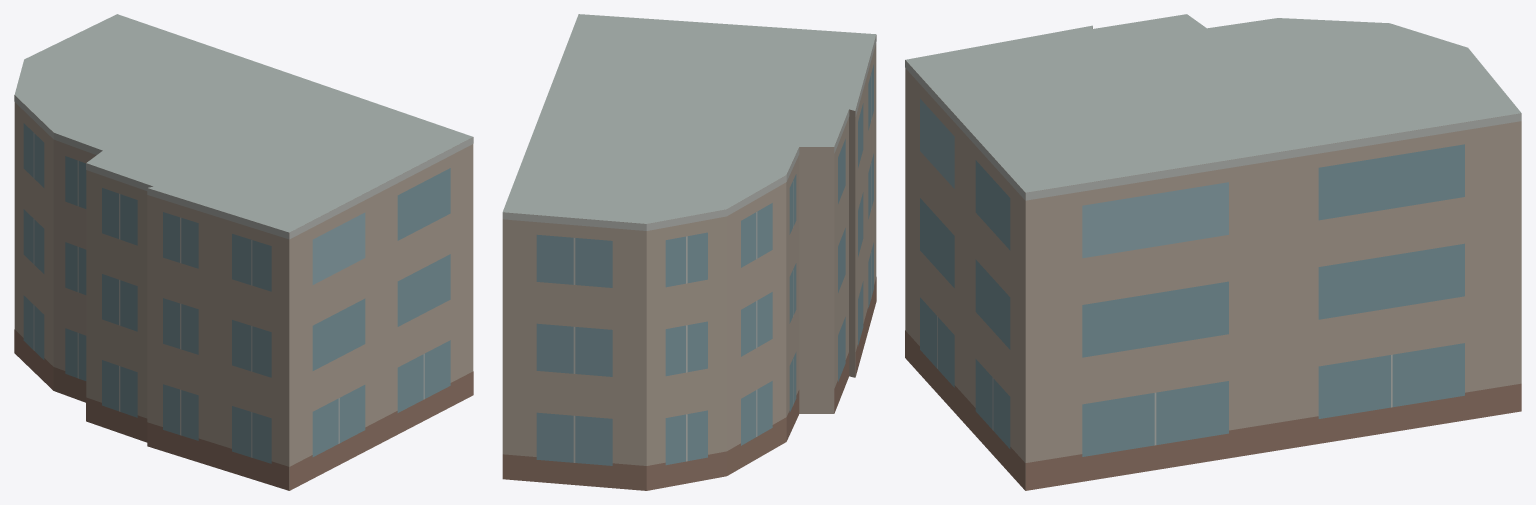
Rendered from survey-upis-32697629.glb.
3 renders of one model, left to right at view 1: azimuth 30°, elevation 25°; view 2: azimuth 150°, elevation 25°; view 3: azimuth 270°, elevation 25°, orthographic. The views are drawn at different scales.
Visible parts, largest first — view 1: survey-upis-32697629.tmp; view 2: survey-upis-32697629.tmp; view 3: survey-upis-32697629.tmp.
Part boxes in pixels (x1,y1,x2,y2): survey-upis-32697629.tmp: [14, 14, 473, 490]; survey-upis-32697629.tmp: [502, 14, 876, 490]; survey-upis-32697629.tmp: [905, 14, 1521, 490].
Bounding box in the file's own units: 11.77 × 9.15 × 17.16.
